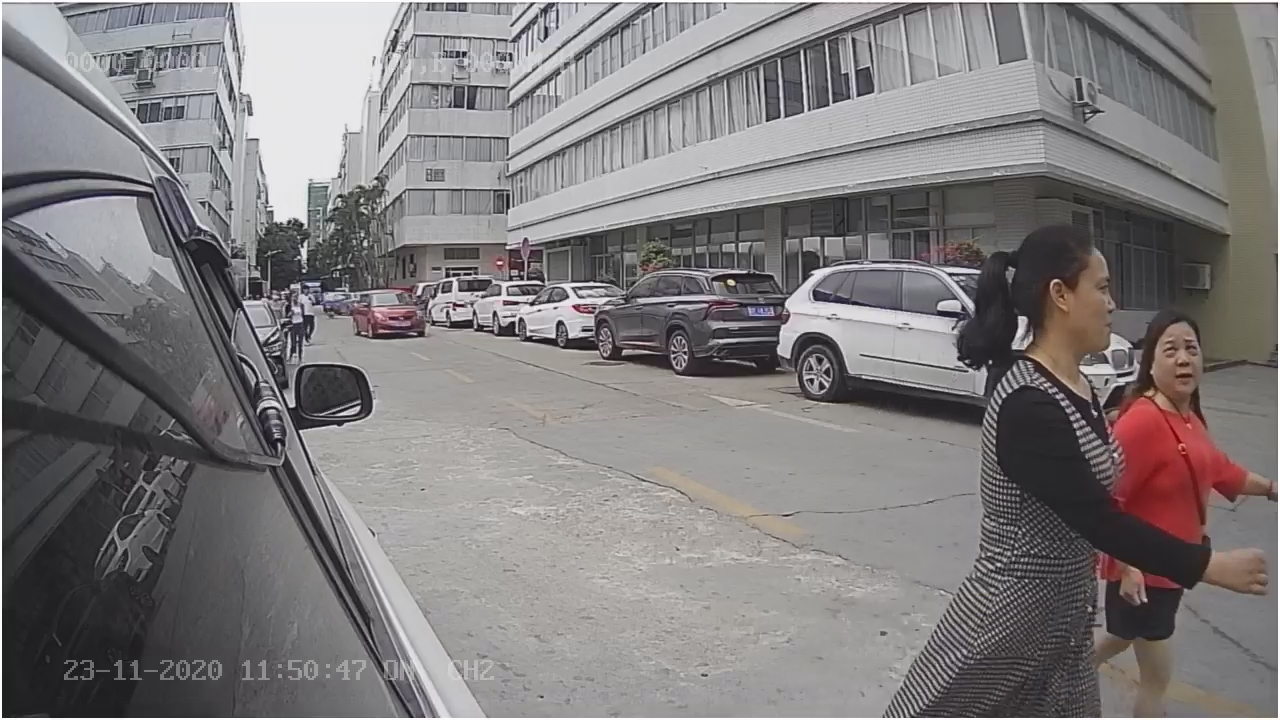person: (963, 222, 1124, 530)
